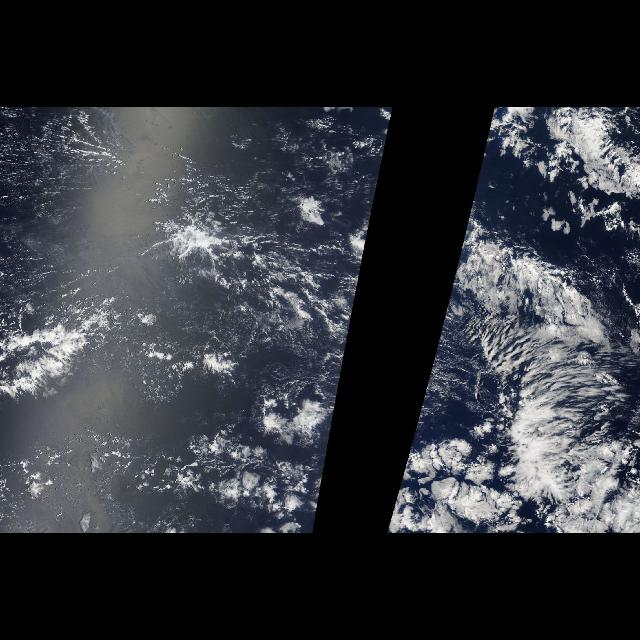Fish: (448, 206, 628, 502)
Sugar: (157, 168, 345, 416)
